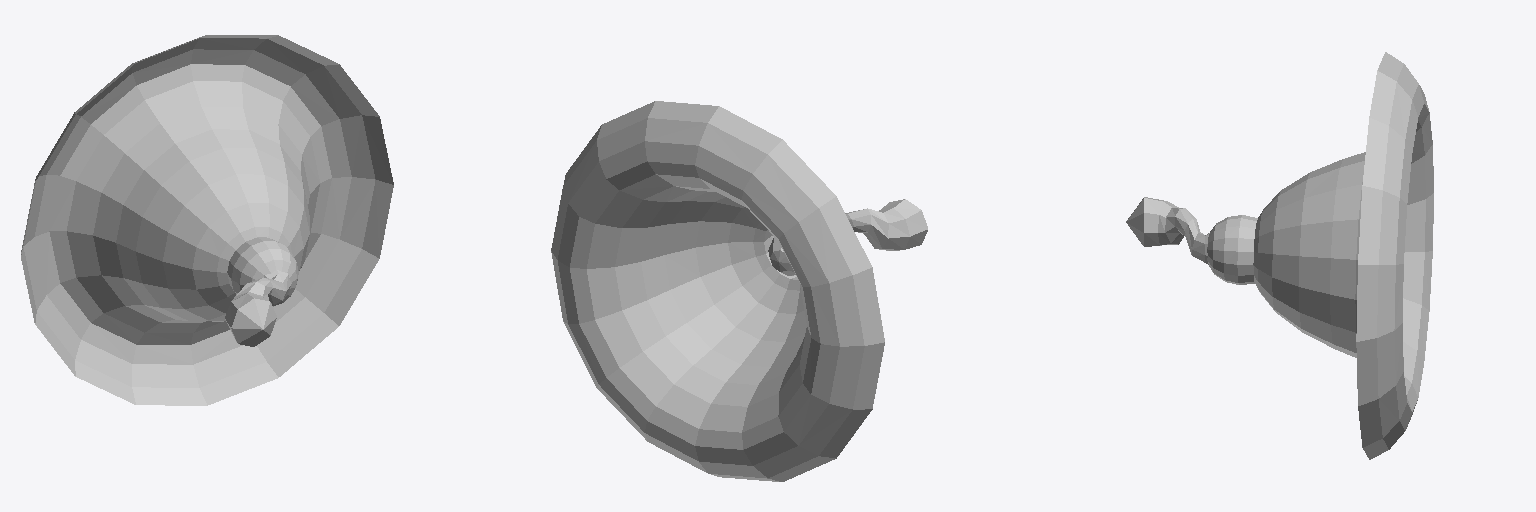
File: generic_plant_03.obj
The picture shows the model from 3 angles: view 1: azimuth 30°, elevation 25°; view 2: azimuth 150°, elevation 25°; view 3: azimuth 270°, elevation 25°; orthographic projection.
Visible parts, largest first — view 1: generic_plant_03_1, generic_plant_03_0; view 2: generic_plant_03_1, generic_plant_03_0; view 3: generic_plant_03_1, generic_plant_03_0.
Boxes of the visible parts, x1=… form: generic_plant_03_1: x1=21, y1=35, x2=393, y2=405; generic_plant_03_0: x1=225, y1=270, x2=291, y2=346; generic_plant_03_1: x1=551, y1=101, x2=884, y2=481; generic_plant_03_0: x1=768, y1=199, x2=927, y2=275; generic_plant_03_1: x1=1207, y1=52, x2=1433, y2=459; generic_plant_03_0: x1=1126, y1=197, x2=1209, y2=264.
Bounding box in the file's own units: 0.626 × 0.6294 × 0.4739.